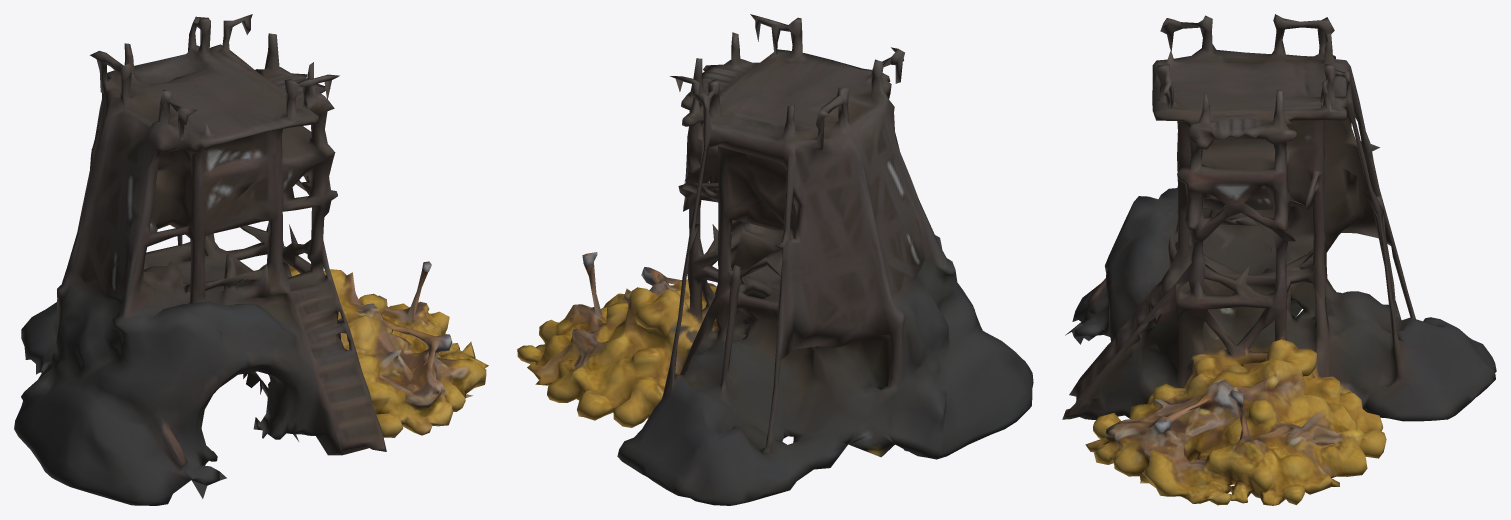
Rendered from mining_tower.glb.
The picture shows the model from 3 angles, left to right: view 1: azimuth 30°, elevation 25°; view 2: azimuth 150°, elevation 25°; view 3: azimuth 270°, elevation 25°; orthographic projection. The views are drawn at different scales.
Visible parts, largest first — view 1: Mining_Tower; view 2: Mining_Tower; view 3: Mining_Tower.
Boxes of the visible parts, box(x1,y1,x2,y2) form: Mining_Tower: box(14, 14, 488, 505); Mining_Tower: box(517, 14, 1033, 505); Mining_Tower: box(1062, 14, 1496, 505).
Bounding box in the file's own units: 6 × 4.49 × 5.21.
1 material, 1 textured.
